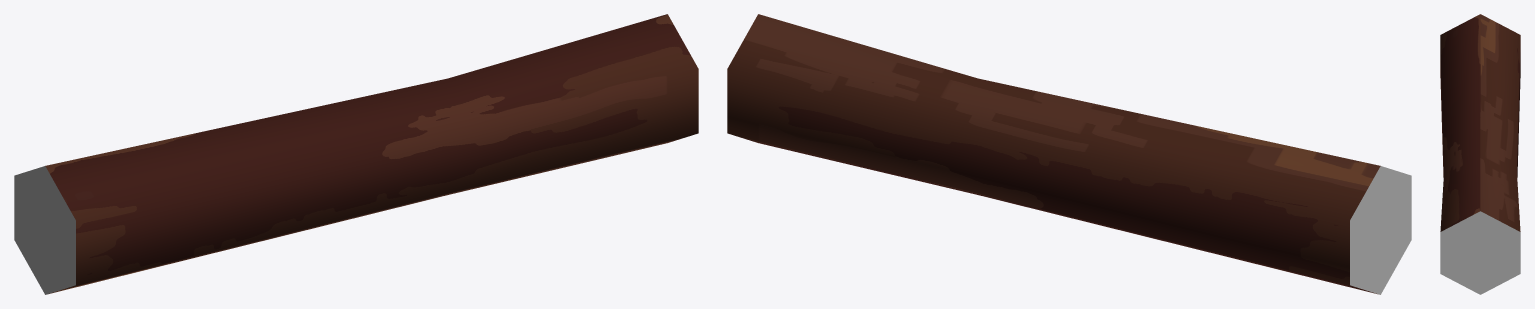
File: SM_PROP_treetrunk_04.fbx
3 renders of one model, left to right at view 1: azimuth 30°, elevation 25°; view 2: azimuth 150°, elevation 25°; view 3: azimuth 270°, elevation 25°, orthographic. The views are drawn at different scales.
Visible parts, largest first — view 1: SM_PROP_treetrunk_04; view 2: SM_PROP_treetrunk_04; view 3: SM_PROP_treetrunk_04.
Part boxes in pixels (x1,y1,x2,y2): SM_PROP_treetrunk_04: (14,14,698,294); SM_PROP_treetrunk_04: (727,14,1411,294); SM_PROP_treetrunk_04: (1440,14,1520,294).
Size of the model in its own units: 459 by 91.04 by 78.84.
